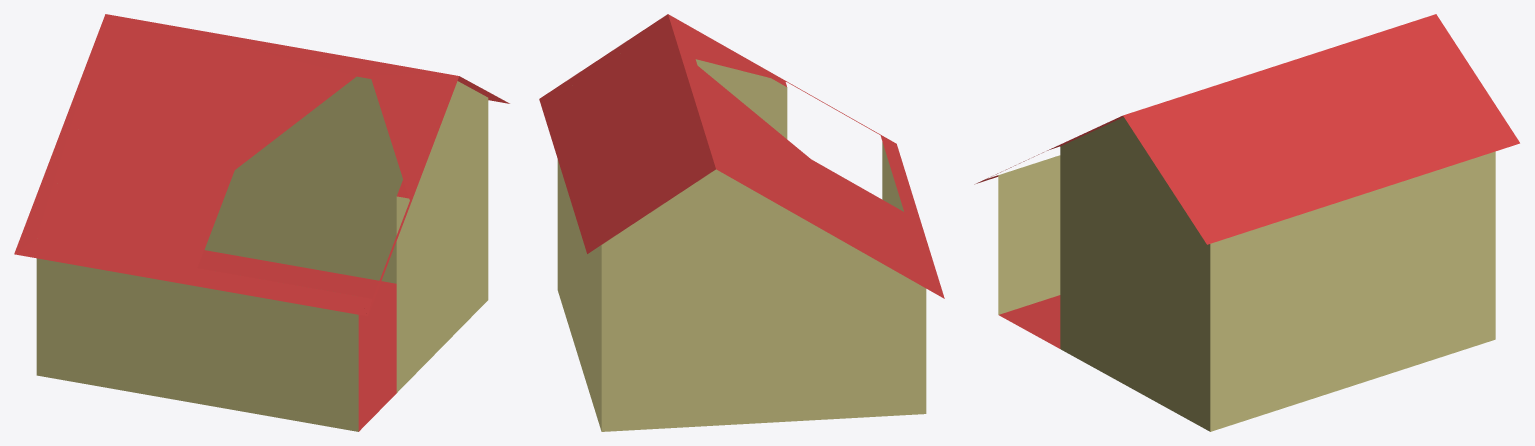
3 renders of one model, left to right at view 1: azimuth 30°, elevation 25°; view 2: azimuth 150°, elevation 25°; view 3: azimuth 270°, elevation 25°, orthographic. The views are drawn at different scales.
Size of the model in its own units: 23.05 by 23.14 by 13.09.
